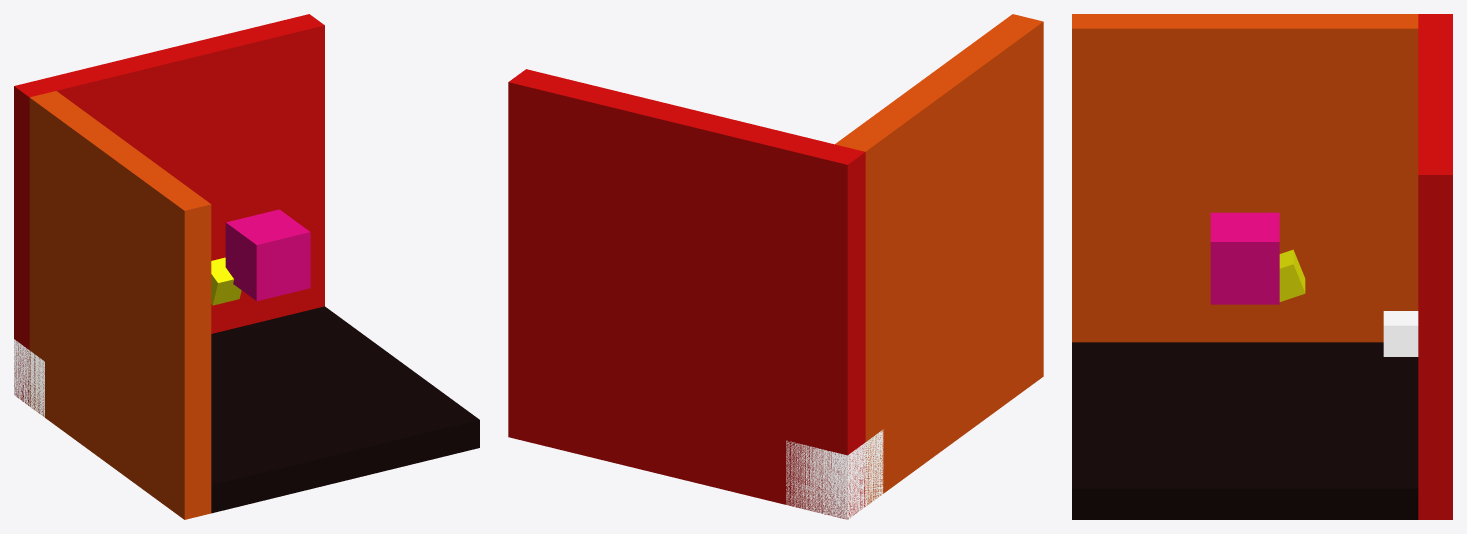
The picture shows the model from 3 angles, left to right: view 1: azimuth 30°, elevation 25°; view 2: azimuth 150°, elevation 25°; view 3: azimuth 270°, elevation 25°; orthographic projection. The views are drawn at different scales.
Visible parts, largest first — view 1: object 6, object 5, object 4, object 3, object 1, bob; view 2: object 5, object 6, object 1; view 3: object 6, object 4, object 5, object 3, object 1, bob.
Boxes of the visible parts, x1,y1,x2,y2 form: object 6: (29, 91, 211, 519); object 5: (14, 14, 324, 405); object 4: (211, 306, 479, 513); object 3: (225, 209, 310, 301); object 1: (14, 339, 44, 417); bob: (211, 257, 241, 305); object 5: (508, 69, 865, 519); object 6: (835, 14, 1043, 505); object 1: (786, 429, 883, 519); object 6: (1072, 14, 1418, 342); object 4: (1072, 342, 1418, 519); object 5: (1418, 14, 1452, 519); object 3: (1210, 212, 1279, 304); object 1: (1383, 311, 1418, 356); bob: (1279, 249, 1305, 301).
Size of the model in its own units: 110 by 110 by 110.
